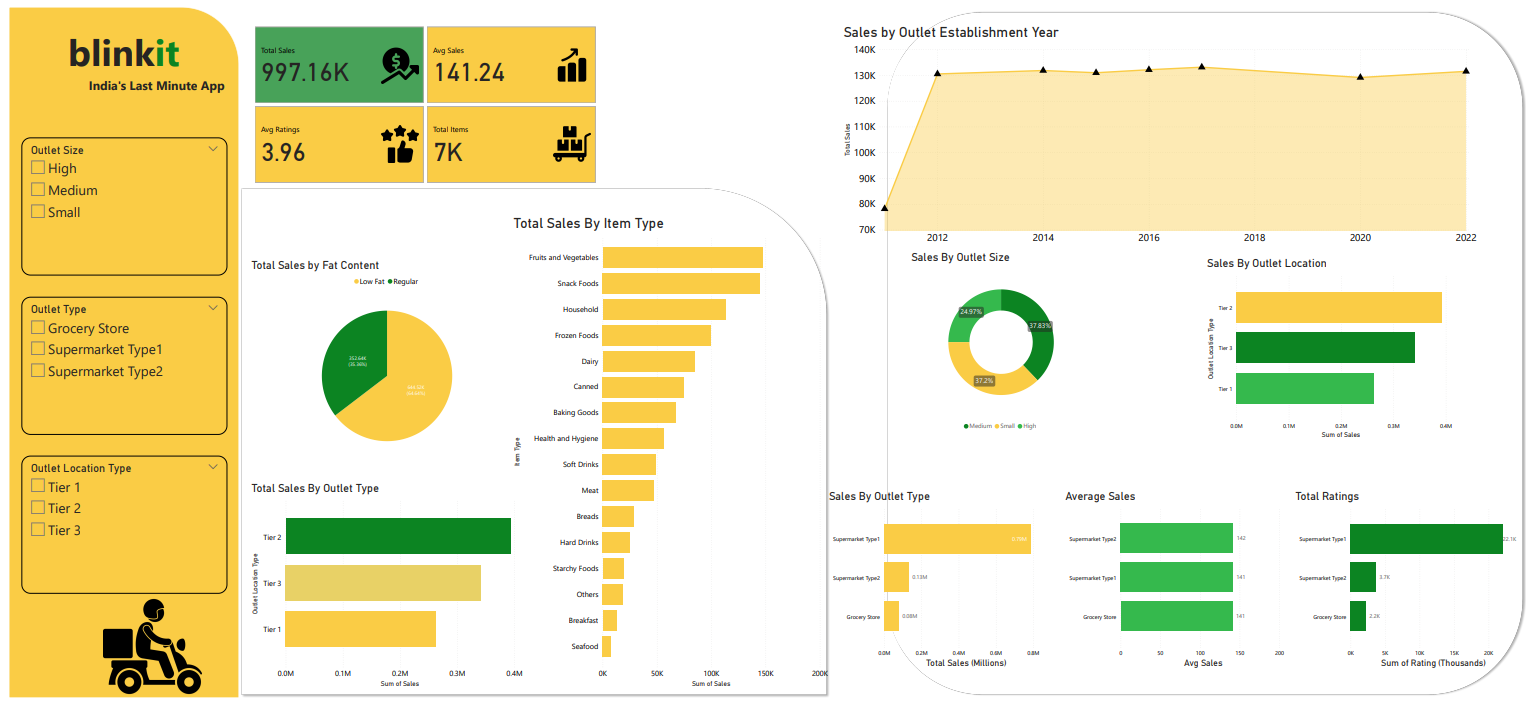

This screenshot's page, from the dashboard's own definition file:
{"tool":"powerbi","page":{"name":"Page 1","canvas":[3300,1500],"ordinal":0},"visuals":[{"type":"shape","box":[1903,3,1397,1497],"z":0},{"type":"shape","box":[500,384.8,1287.9,1115.2],"z":1000},{"type":"shape","box":[1.6,0,500,1500],"z":2000},{"type":"textbox","box":[76.6,37.1,350,120],"z":3000},{"type":"textbox","box":[76.3,145.7,400,50],"z":4000},{"type":"cardVisual","fields":{"Data":["blinkitfile.Total Sales","blinkitfile.Avg Sales","blinkitfile.Avg Ratings","blinkitfile.Total Items"]},"box":[532,37.8,750,348.8],"z":5000},{"type":"slicer","fields":{"Values":["blinkitfile.Outlet Size"]},"box":[28.6,282.9,448.6,300],"z":6000},{"type":"slicer","fields":{"Values":["blinkitfile.Outlet Type"]},"box":[28.6,628.6,448.6,300],"z":7000},{"type":"slicer","fields":{"Values":["blinkitfile.Outlet Location Type"]},"box":[28.6,974.3,448.6,300],"z":8000},{"type":"pieChart","title":"Total Sales by Fat Content","fields":{"Y":["Sum(blinkitfile.Sales)"],"Category":["blinkitfile.Item Fat Content"]},"box":[523.5,547.1,600,449],"z":9000},{"type":"barChart","title":"Total Sales By Outlet Type","fields":{"Category":["blinkitfile.Outlet Location Type"],"Y":["Sum(blinkitfile.Sales)"]},"box":[523.5,1031.4,600,451],"z":10000},{"type":"barChart","title":"Total Sales By Item Type","fields":{"Y":["Sum(blinkitfile.Sales)"],"Category":["blinkitfile.Item Type"]},"box":[1093.9,451.5,693.9,1030.3],"z":11000},{"type":"donutChart","title":"Sales By Outlet Size","fields":{"Y":["Sum(blinkitfile.Sales)"],"Category":["blinkitfile.Outlet Size"]},"box":[1959.2,528.6,400,400],"z":12000},{"type":"clusteredBarChart","title":"Sales By Outlet Location","fields":{"Y":["Sum(blinkitfile.Sales)"],"Category":["blinkitfile.Outlet Location Type"]},"box":[2602,542.9,542.9,400],"z":13000},{"type":"barChart","title":"Sales By Outlet Type","fields":{"Category":["blinkitfile.Outlet Type"],"Y":["blinkitfile.Total Sales"]},"box":[1780.2,1048.6,500,390],"z":14000},{"type":"barChart","title":"Average Sales","fields":{"Category":["blinkitfile.Outlet Type"],"Y":["blinkitfile.Avg Sales"]},"box":[2293.9,1048.2,500,390.9],"z":14001},{"type":"barChart","title":"Total Ratings","fields":{"Category":["blinkitfile.Outlet Type"],"Y":["Sum(blinkitfile.Rating)"]},"box":[2793.9,1048.6,500,390],"z":14002},{"type":"stackedAreaChart","title":"Sales by Outlet Establishment Year","fields":{"Category":["blinkitfile.Outlet Establishment Year"],"Y":["blinkitfile.Total Sales"]},"box":[1812.2,36.7,1385.7,490],"z":14003},{"type":"image","box":[151.4,1277.1,325.7,222.9],"z":14004}]}

Visuals, with their boxes in screenshot pixels (x1, y1, x2, y2), scaled from the page's 3300x1500 canvas onto the 1531x708 screenshot:
shape: Rect(883, 1, 1530, 707)
shape: Rect(232, 182, 829, 707)
shape: Rect(1, 0, 233, 707)
textbox: Rect(36, 18, 198, 74)
textbox: Rect(35, 69, 221, 92)
cardVisual - blinkitfile.Total Sales x blinkitfile.Avg Sales: Rect(247, 18, 595, 182)
slicer - blinkitfile.Outlet Size: Rect(13, 134, 221, 275)
slicer - blinkitfile.Outlet Type: Rect(13, 297, 221, 438)
slicer - blinkitfile.Outlet Location Type: Rect(13, 460, 221, 601)
"Total Sales by Fat Content" pieChart: Rect(243, 258, 521, 470)
"Total Sales By Outlet Type" barChart: Rect(243, 487, 521, 700)
"Total Sales By Item Type" barChart: Rect(508, 213, 829, 699)
"Sales By Outlet Size" donutChart: Rect(909, 249, 1095, 438)
"Sales By Outlet Location" clusteredBarChart: Rect(1207, 256, 1459, 445)
"Sales By Outlet Type" barChart: Rect(826, 495, 1058, 679)
"Average Sales" barChart: Rect(1064, 495, 1296, 679)
"Total Ratings" barChart: Rect(1296, 495, 1528, 679)
"Sales by Outlet Establishment Year" stackedAreaChart: Rect(841, 17, 1484, 249)
image: Rect(70, 603, 221, 707)
